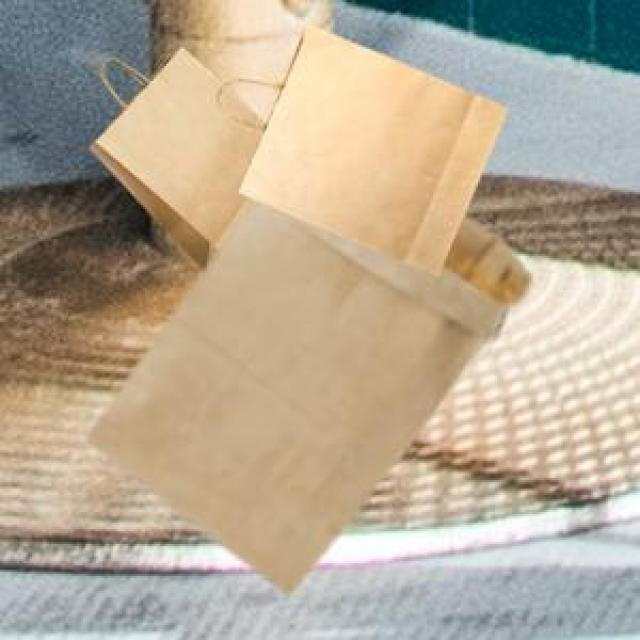Paper -Biodegradable-: (86, 22, 533, 599)
